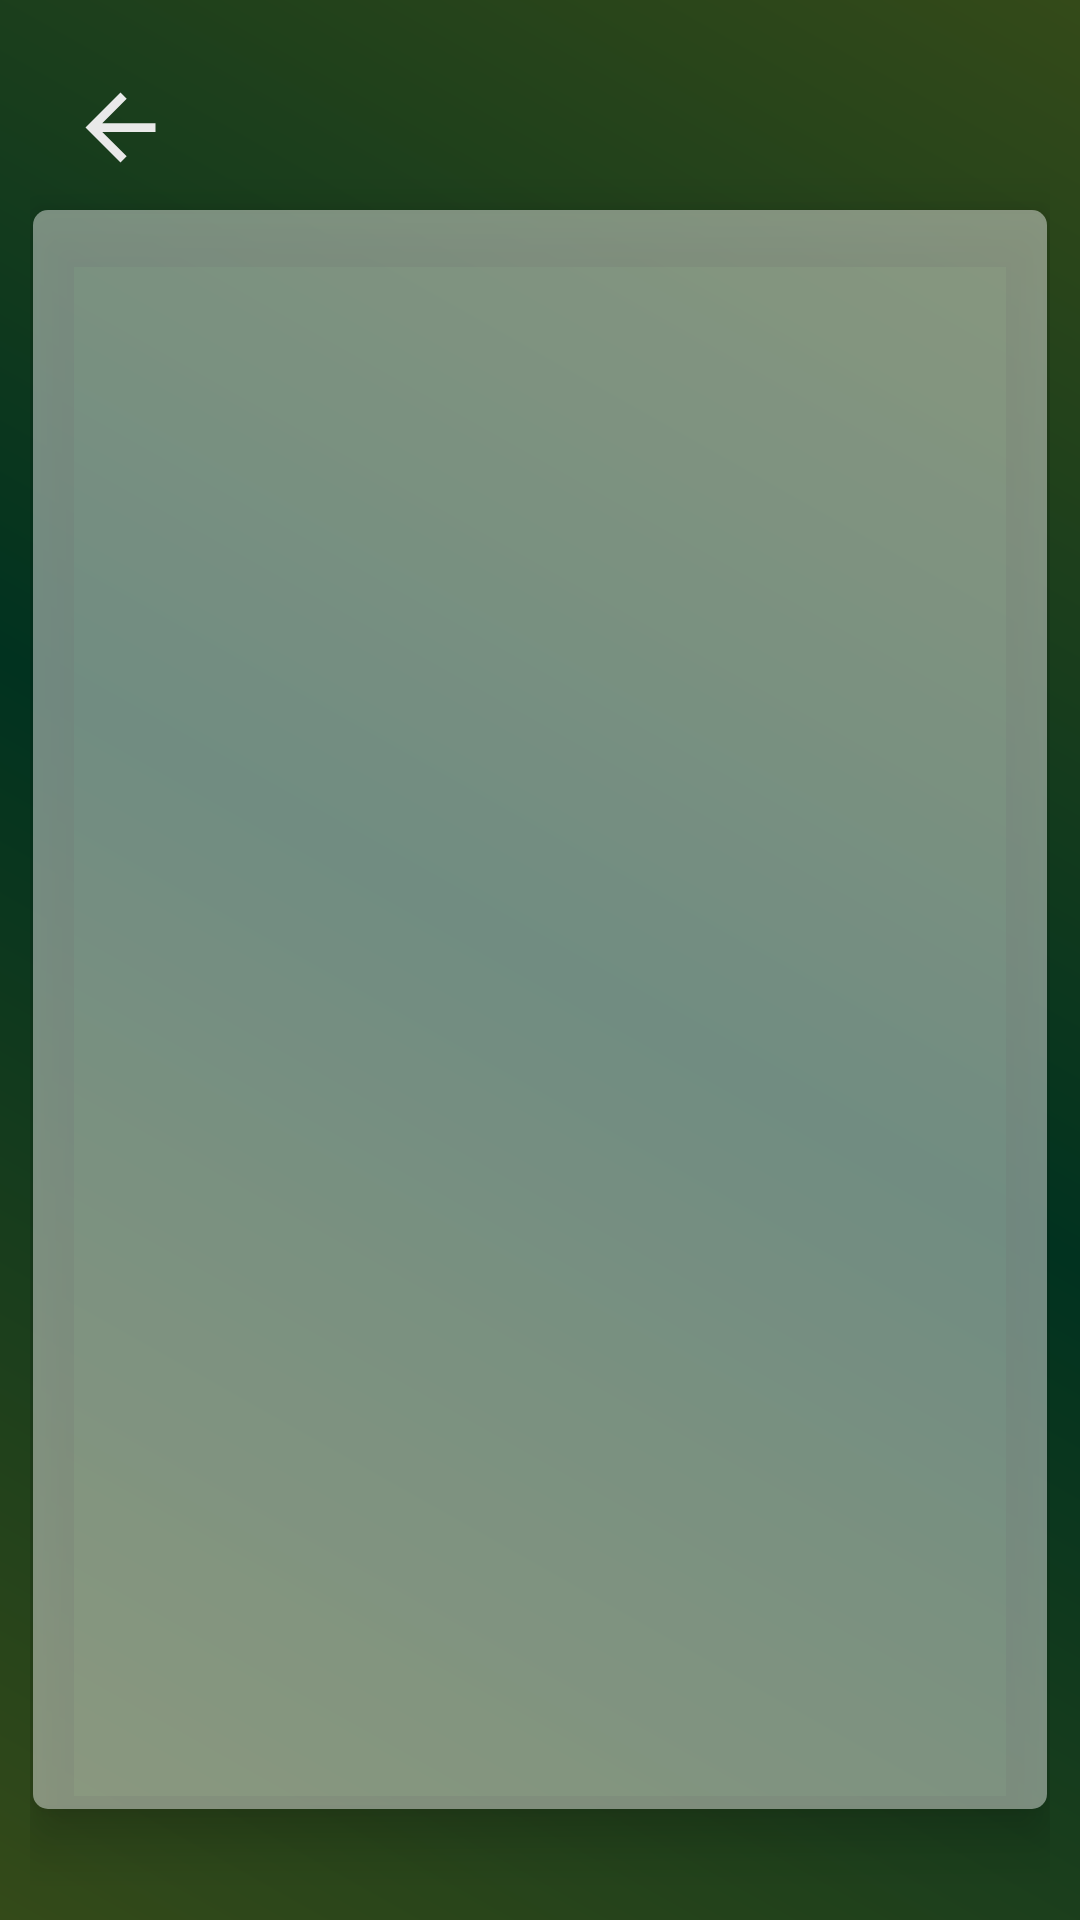

Icon bounding boxes for this 1080 × 1920 phone screenshot, format [x1=x1, y1=y1, x2=x2, y2=y2]:
arrow back: [x1=85, y1=92, x2=156, y2=163]
